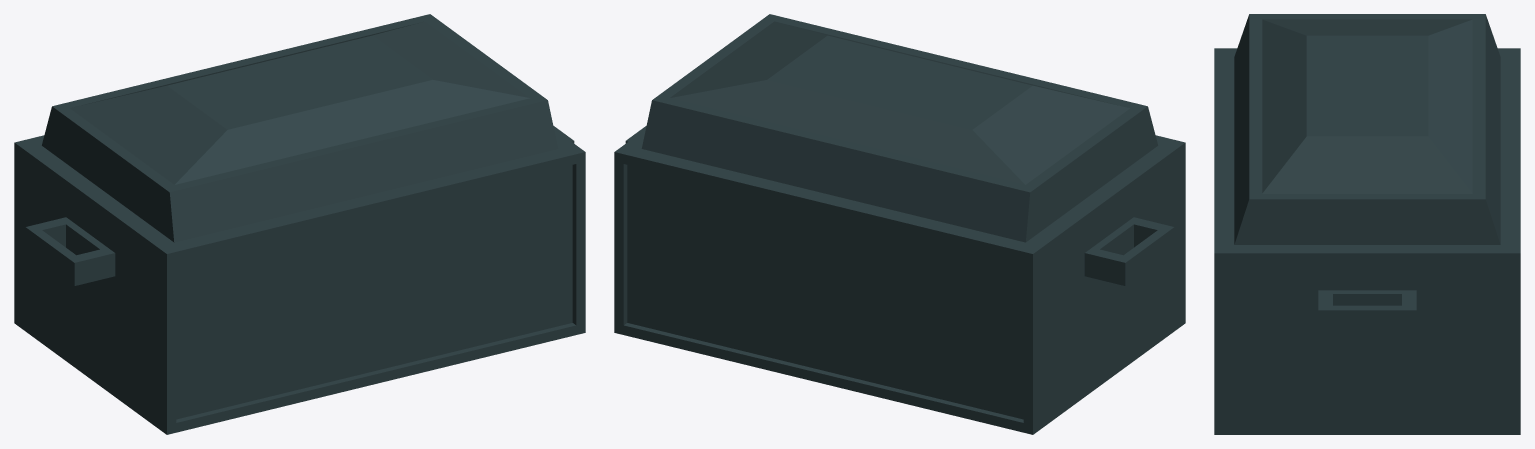
Rendered from PlasticCargo.fbx.
The picture shows the model from 3 angles, left to right: view 1: azimuth 30°, elevation 25°; view 2: azimuth 150°, elevation 25°; view 3: azimuth 270°, elevation 25°; orthographic projection.
Parts seen in each view (by area): view 1: Cube.001; view 2: Cube.001; view 3: Cube.001.
Boxes of the visible parts, x1,y1,x2,y2 form: Cube.001: (14, 14, 585, 434); Cube.001: (614, 14, 1185, 434); Cube.001: (1214, 14, 1520, 434).
Size of the model in its own units: 134 by 62.74 by 70.66.
